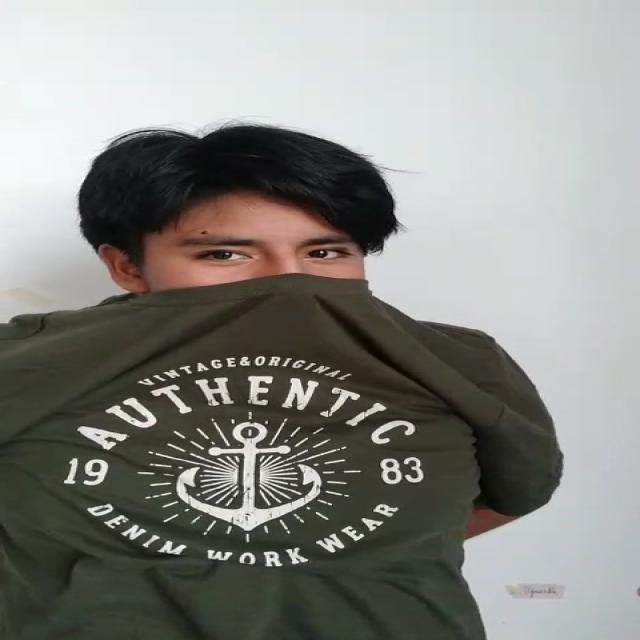8_ropa_rostro: (44, 268, 500, 378)
